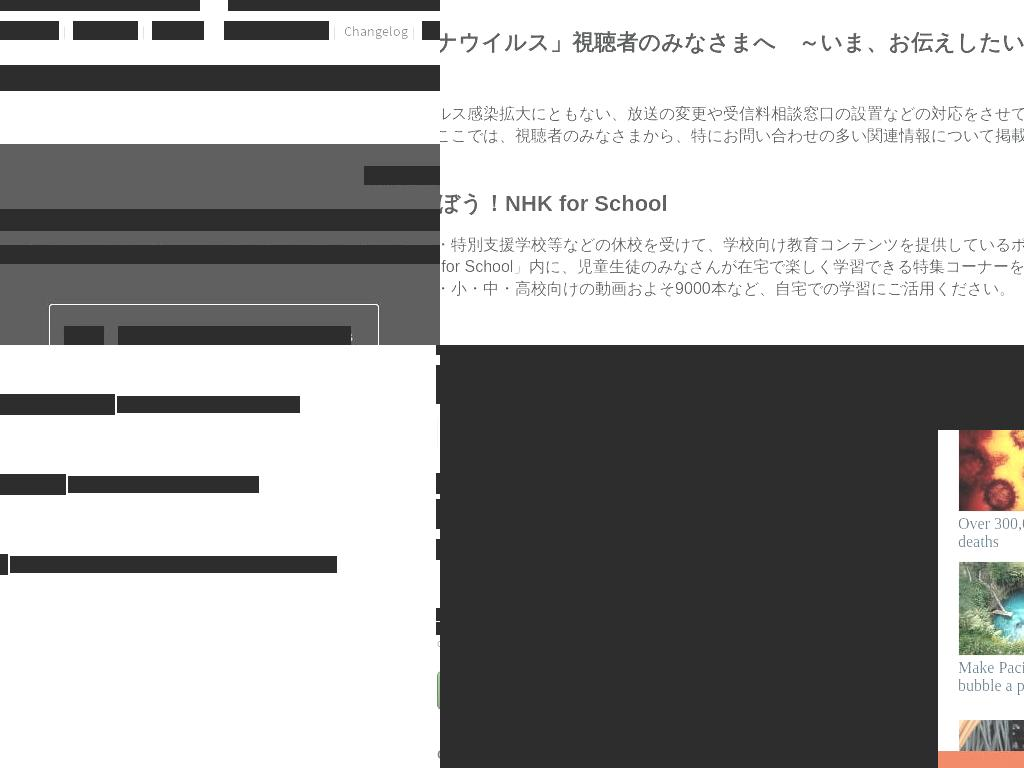button: (440, 427, 938, 768), (440, 27, 1024, 169), (440, 188, 1024, 319), (64, 326, 104, 345), (958, 705, 1024, 716)
heading: (440, 27, 1024, 88), (440, 188, 1024, 219), (958, 515, 1024, 550), (958, 659, 1024, 694)
iframe: (440, 345, 1024, 430), (440, 354, 938, 404), (958, 345, 1024, 382)
image: (440, 427, 938, 768), (958, 417, 1024, 510), (958, 561, 1024, 654), (64, 326, 104, 345)
link: (440, 102, 1024, 169), (440, 234, 1024, 301), (156, 65, 440, 91), (120, 326, 351, 345), (261, 245, 440, 264), (224, 21, 329, 40), (364, 166, 440, 185), (73, 21, 138, 40), (343, 21, 408, 40), (0, 21, 59, 40), (185, 326, 240, 345), (152, 21, 204, 40), (422, 21, 440, 40)
text: (0, 209, 440, 231), (10, 556, 337, 573), (0, 245, 261, 264), (0, 65, 156, 91), (68, 476, 259, 493), (117, 396, 300, 413), (0, 394, 115, 415), (0, 474, 66, 495), (240, 326, 309, 345), (118, 326, 185, 345)
